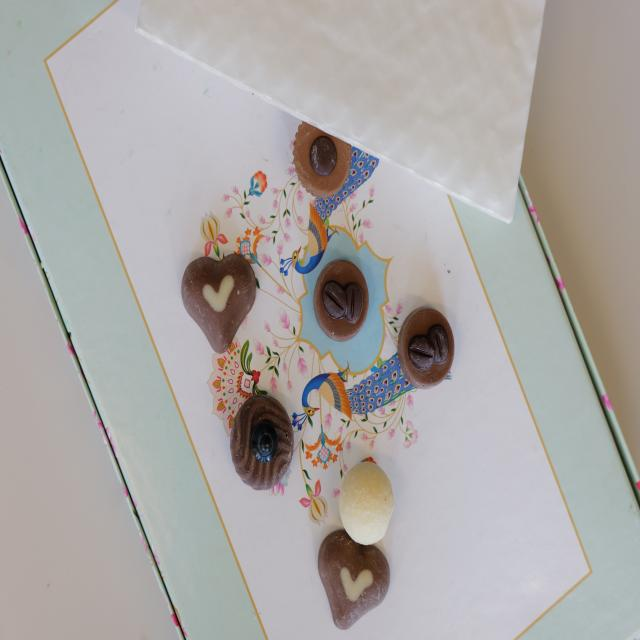Arabia: (401, 307, 453, 387), (316, 259, 368, 334)
Comtesse: (341, 456, 398, 546)
Noblesse: (296, 110, 352, 196)
Noir_authentique: (230, 391, 295, 491)
Passion_au_lait: (318, 525, 390, 630), (185, 256, 258, 351)
